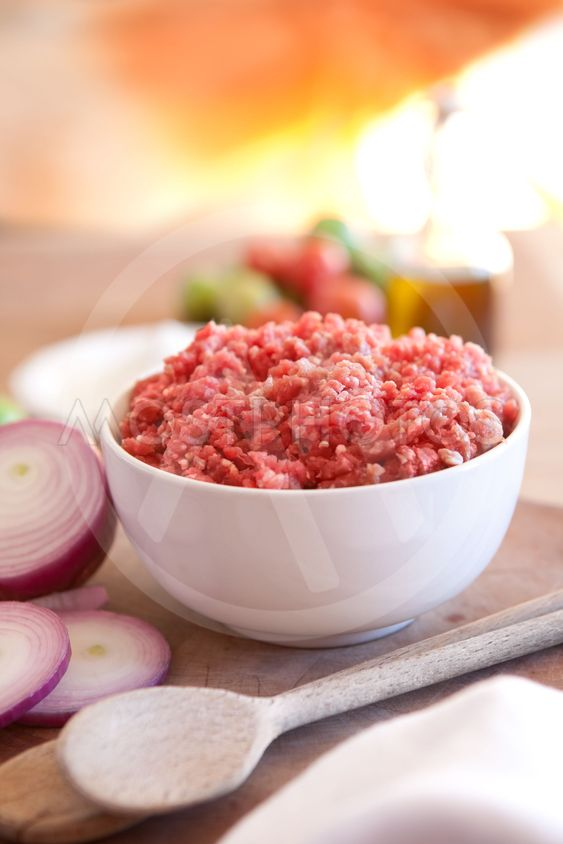ground_beef: (124, 312, 527, 497)
